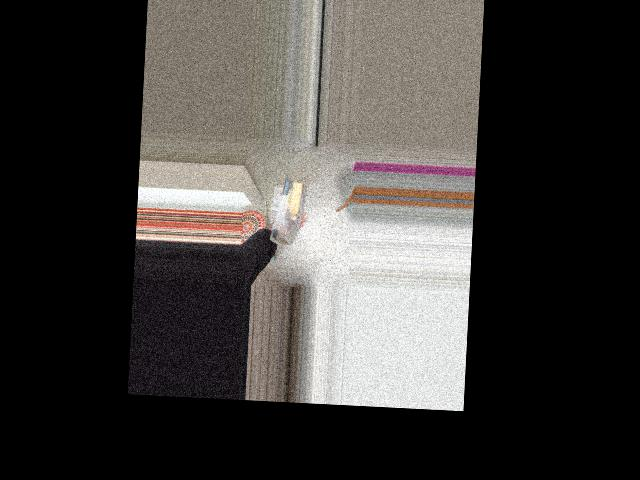cheese: (266, 178, 306, 248)
